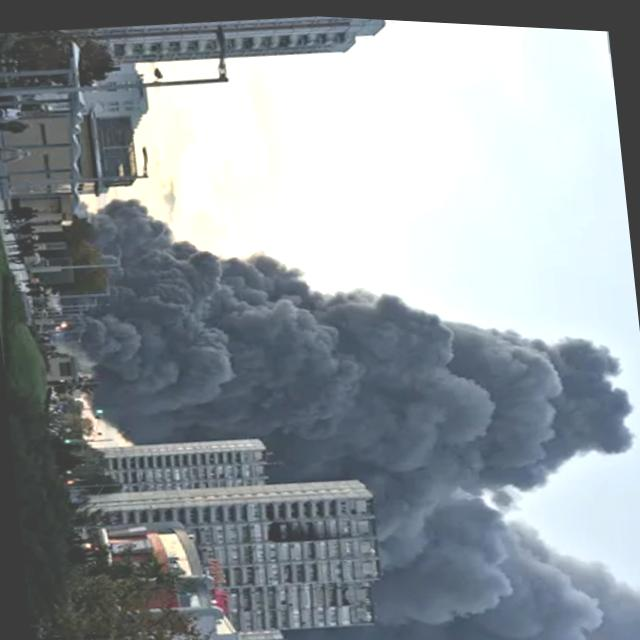Smoke: (72, 142, 632, 467), (266, 399, 640, 640)
